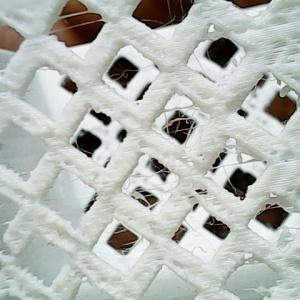3dpstringing: (155, 97, 219, 150), (121, 163, 186, 209), (171, 215, 229, 261), (210, 150, 266, 196), (49, 6, 106, 37), (37, 171, 76, 214), (238, 260, 281, 297), (98, 222, 140, 259), (241, 72, 280, 111), (103, 61, 155, 85), (187, 42, 216, 84), (141, 15, 194, 35), (248, 198, 288, 221), (66, 132, 97, 158), (269, 226, 296, 246)
3dpunderextrusion: (22, 213, 82, 256), (4, 261, 68, 298), (263, 14, 298, 69), (179, 174, 227, 214), (72, 260, 118, 297), (202, 17, 252, 47)
